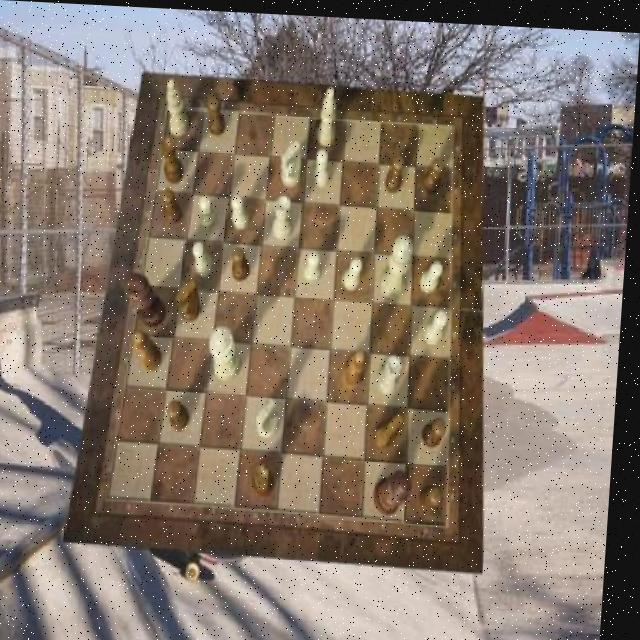bishop: (136, 330, 168, 372), (346, 346, 370, 387)
black-bishop: (126, 270, 172, 326)
black-king: (178, 277, 206, 321), (377, 409, 408, 447)
black-knight: (162, 186, 186, 222), (423, 153, 445, 191), (426, 412, 452, 444), (208, 93, 228, 134), (387, 150, 407, 189), (171, 397, 195, 429), (234, 244, 255, 279), (424, 482, 449, 510)
black-pawn: (378, 466, 418, 513)
black-queen: (160, 136, 187, 183), (257, 462, 281, 496)
black-rook: (164, 76, 192, 135), (317, 84, 339, 145)
white-bishop: (212, 322, 248, 378)
white-king: (281, 138, 304, 185), (261, 396, 286, 437)
white-knight: (426, 304, 451, 340), (422, 256, 446, 289), (195, 239, 217, 275), (200, 193, 220, 230), (345, 253, 366, 288), (232, 192, 253, 227), (315, 145, 333, 184), (307, 247, 326, 280)
white-pawn: (383, 230, 416, 297)
white-queen: (274, 191, 297, 238), (381, 350, 407, 391)
